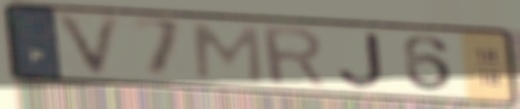6: (401, 34, 456, 93)
7: (128, 15, 186, 81)
J: (336, 31, 389, 90)
M: (190, 21, 266, 85)
R: (257, 24, 330, 89)
V: (50, 9, 128, 81)
